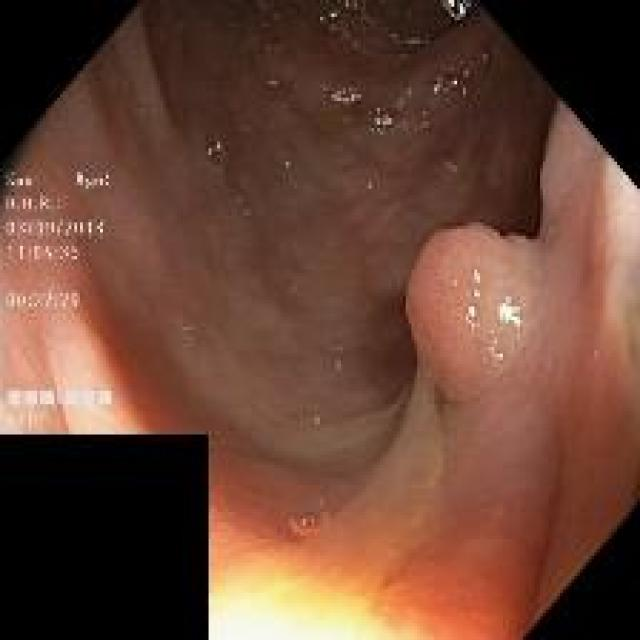Polyps: (408, 225, 544, 405)
